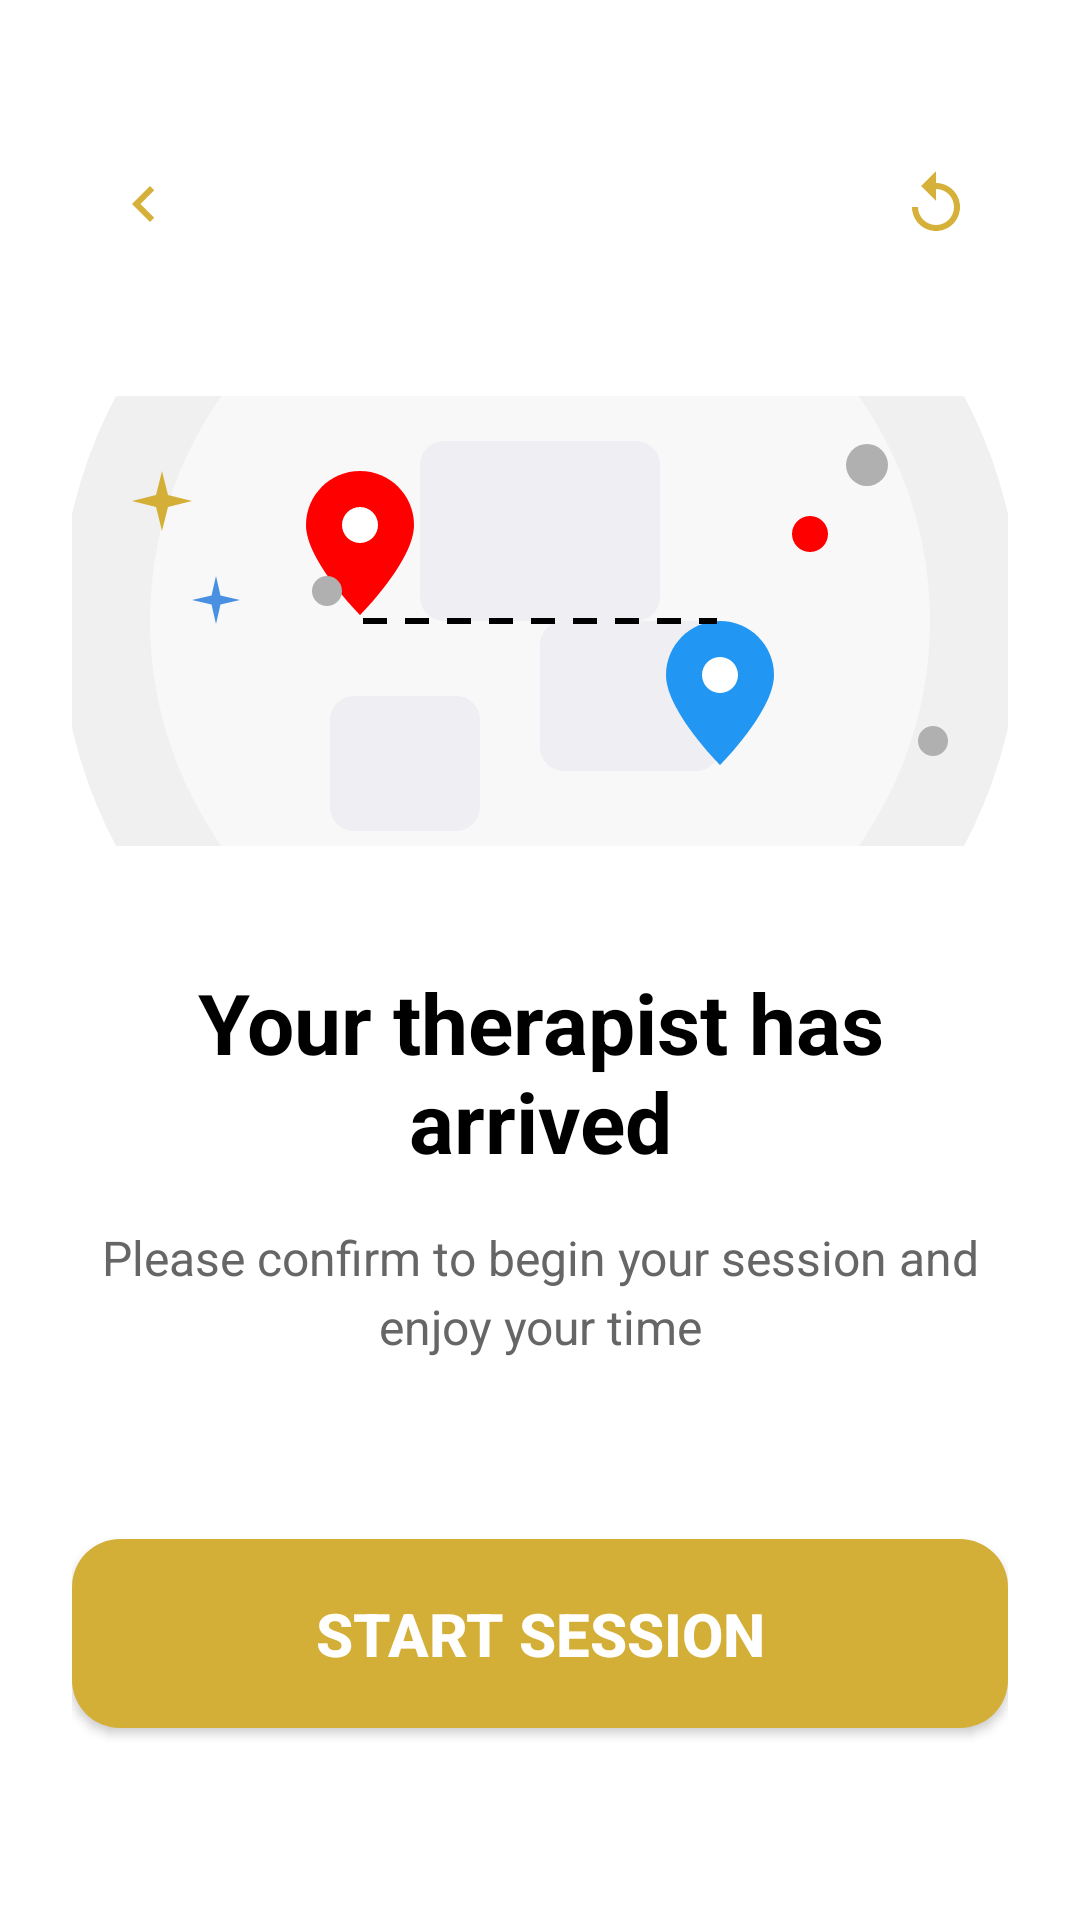

Locate icon controls on the screen. Image size 1080px x 1920px, boxes as (x1, y1, x2, y2).
Back: (132, 186, 154, 222)
Blue Marker: (657, 621, 774, 765)
Reset: (912, 171, 960, 231)
sparkle: (193, 577, 239, 623)
sparkle gold: (133, 472, 191, 530)
